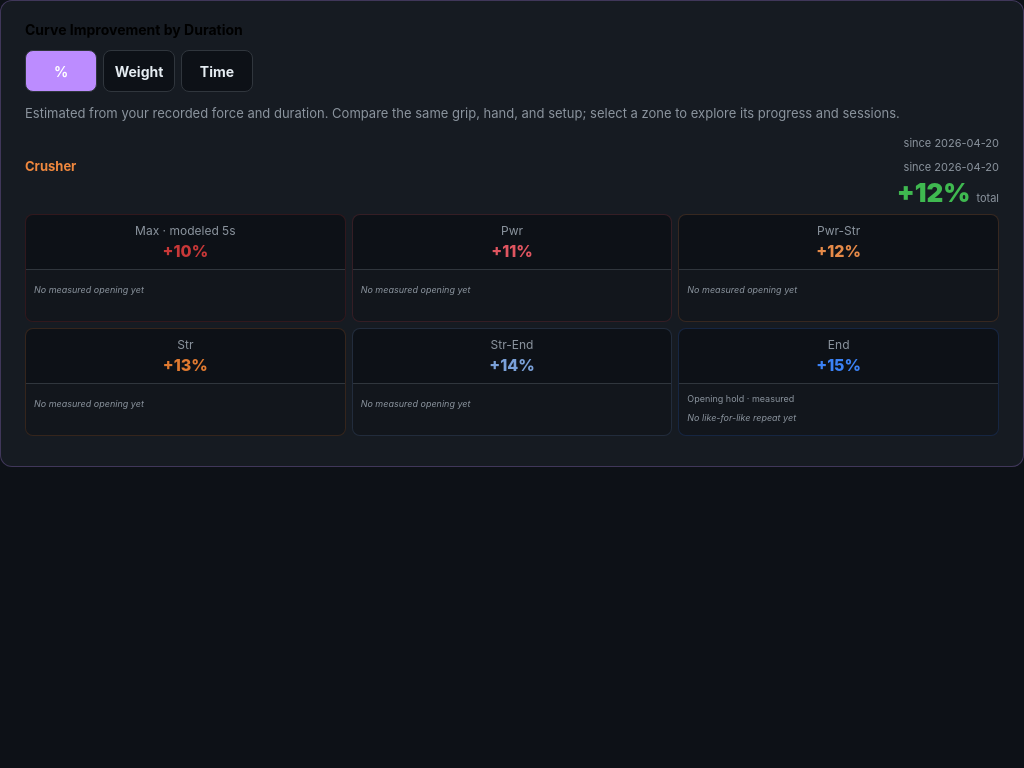
it: opens the selected zone's session history from a global tile
Click the button with aria-label "Endurance session history".
click(839, 356)  # box x1=679 y1=328 x2=998 y2=382
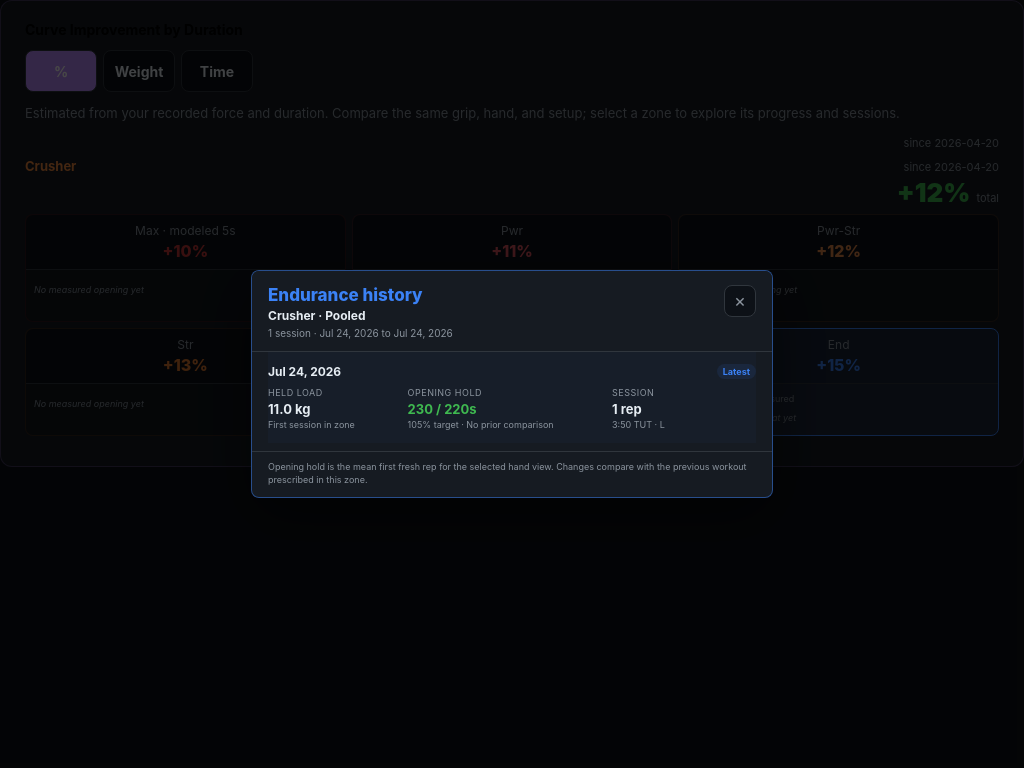
expect the dialog shows "Endurance history": met
expect the text "230 / 220s" is shown: met, box x1=408 y1=401 x2=477 y2=417
